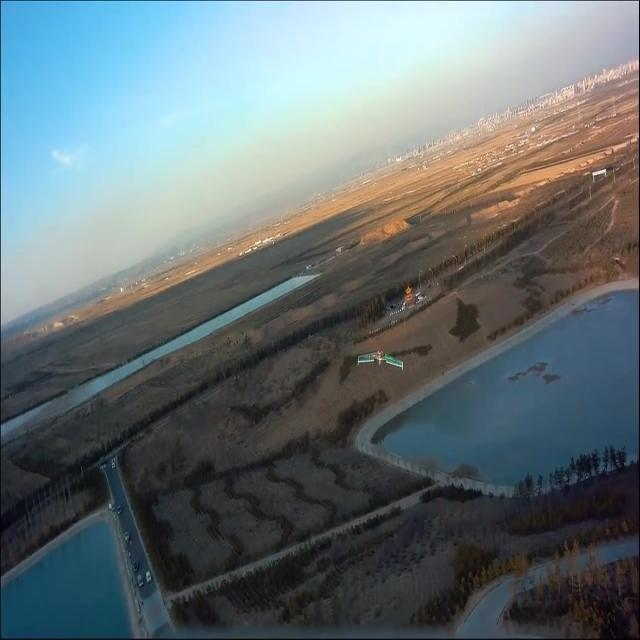iha: (356, 349, 404, 371)
